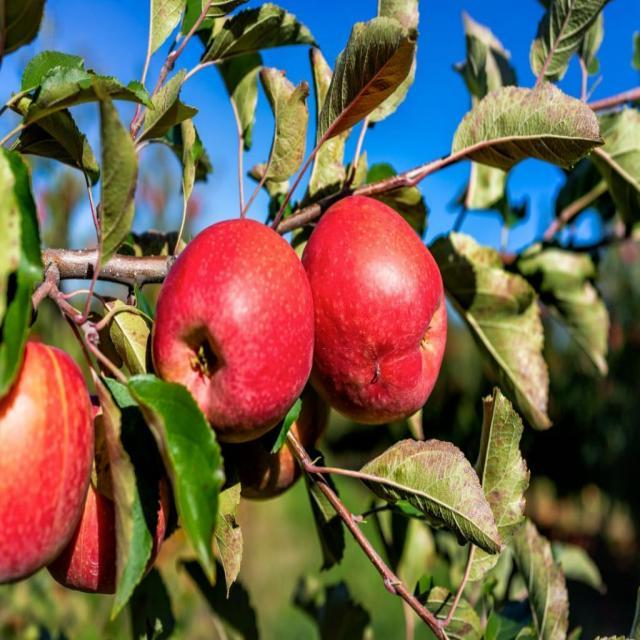Red Apple: (156, 217, 318, 435), (302, 192, 449, 419), (54, 385, 169, 592), (1, 337, 89, 583), (225, 372, 335, 500)
